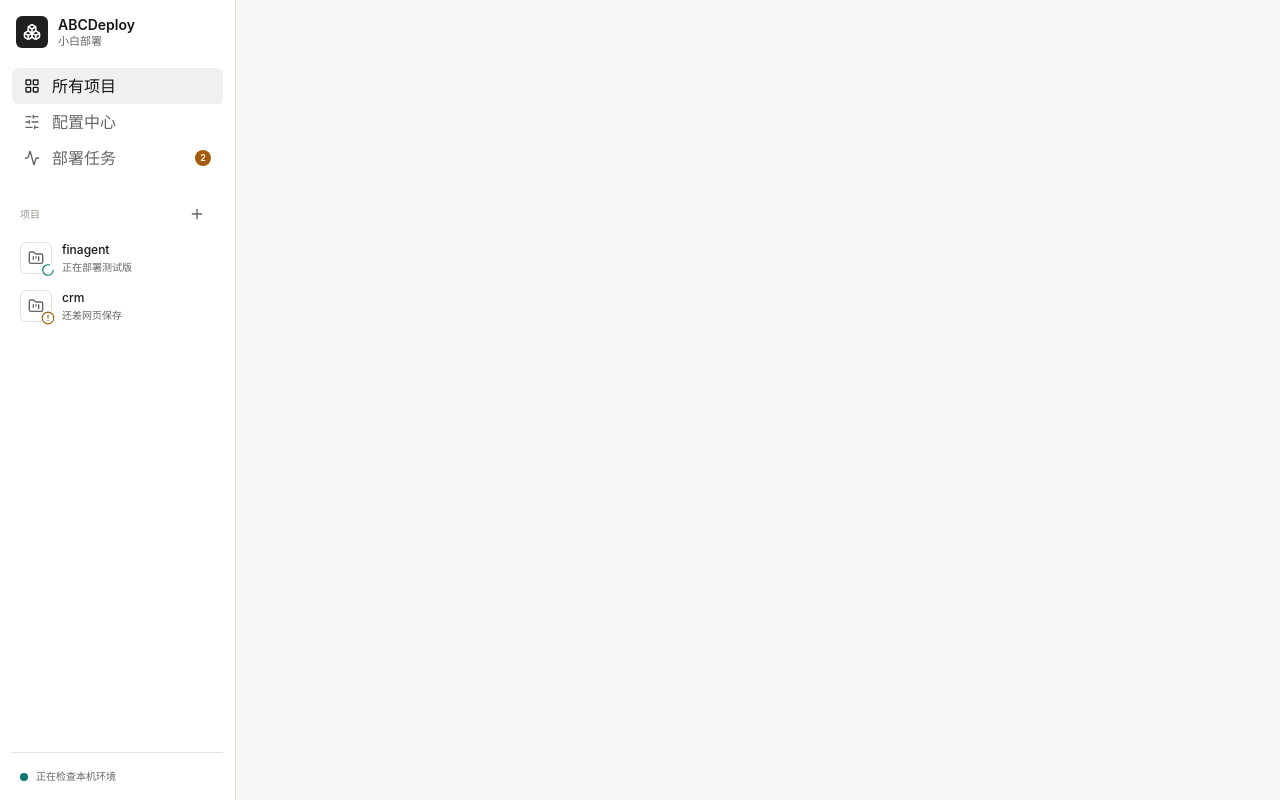
it: AppShell multi-project workspace › separates work waiting for the user from work the system is already handling
Click the button "部署任务 2". click: point(118, 158)
box: [12,140,223,176]
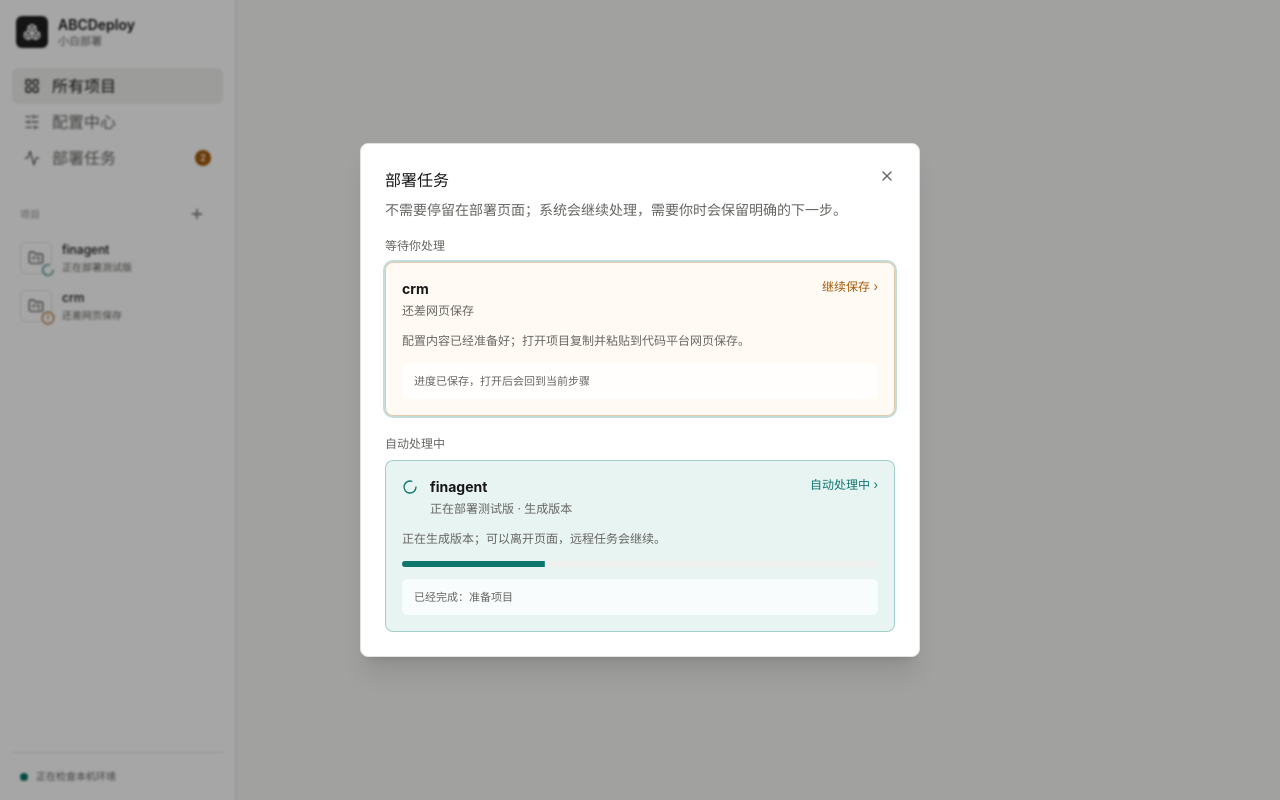
Expected: the heading "等待你处理" is shown, [385,238,445,253]
Expected: the heading "自动处理中" is shown, [385,436,445,451]
Expected: the text "还差网页保存" is shown, [402,303,474,319]
